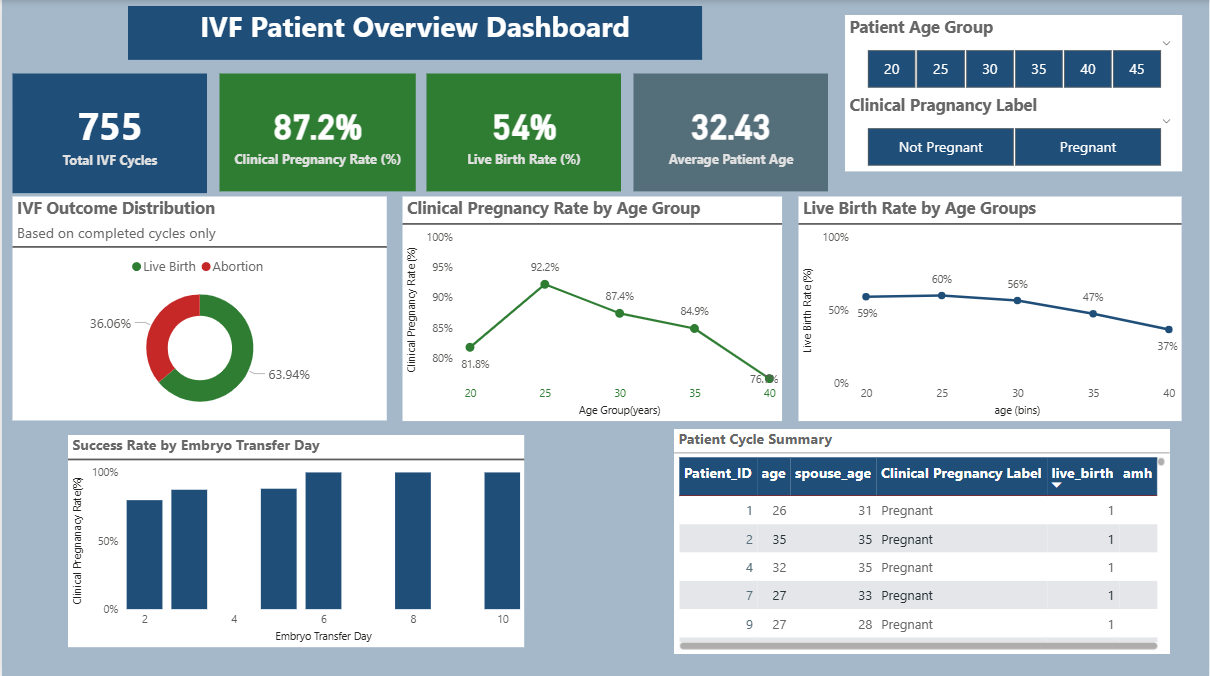

The dashboard page shown, as its layout file describes it:
{"tool":"powerbi","page":{"name":"Patient_Dashboard","canvas":[1366,768],"ordinal":1},"visuals":[{"type":"lineChart","title":"Clinical Pregnancy Rate by Age Group","fields":{"Category":["ivf_dataset.age (bins)"],"Y":["ivf_dataset.Clinical Pregnancy Rate (%)"]},"box":[453.8,221.8,429.6,254.1],"z":0},{"type":"donutChart","title":"IVF Outcome Distribution","fields":{"Category":["ivf_dataset.Outcome Type"],"Y":["CountNonNull(ivf_dataset.Patient_ID)"]},"box":[12.3,222.8,423.1,253.4],"z":1000},{"type":"lineChart","title":"Live Birth Rate by Age Groups","fields":{"Category":["ivf_dataset.age (bins)"],"Y":["ivf_dataset.Live Birth Rate (%)"]},"box":[901.5,221.8,433.6,254.1],"z":2000},{"type":"card","fields":{"Values":["ivf_dataset.Total Cycles"]},"box":[12.1,82.7,219.8,135.1],"z":3000},{"type":"card","fields":{"Values":["ivf_dataset.Clinical Pregnancy Rate (%)"]},"box":[246,82.7,221.8,133.1],"z":4000},{"type":"card","fields":{"Values":["ivf_dataset.Live Birth Rate (%)"]},"box":[480,82.7,219.8,133.1],"z":5000},{"type":"card","fields":{"Values":["ivf_dataset.Average Patient Age"]},"box":[713.9,82.7,219.8,133.1],"z":6000},{"type":"tableEx","title":"Patient Cycle Summary","fields":{"Values":["ivf_dataset.Patient_ID","ivf_dataset.age","ivf_dataset.spouse_age","ivf_dataset.Clinical Pregnancy Label","ivf_dataset.live_birth","ivf_dataset.amh"]},"box":[760.3,486,560.7,254.1],"z":7000},{"type":"clusteredColumnChart","title":"Success Rate by Embryo Transfer Day","fields":{"Y":["ivf_dataset.Pregnancy Success Rate %"],"Category":["ivf_dataset.embryo_transfer_day"]},"box":[74.6,492.1,516.3,240],"z":8000},{"type":"shape","title":"IVF Patient Overview Dashboard","box":[143.2,6.1,649.4,60.5],"z":9000},{"type":"slicer","title":"Patient Age Group","fields":{"Values":["ivf_dataset.age (bins)"]},"box":[953.9,16.1,381.2,88.7],"z":10000},{"type":"slicer","title":"Clinical Pragnancy Label","fields":{"Values":["ivf_dataset.Clinical Pregnancy Label"]},"box":[953.9,104.9,381.2,88.7],"z":11000}]}

Visuals, with their boxes in screenshot pixels (x1, y1, x2, y2), scaled from the page's 1366x768 canvas onto the 1210x676 screenshot:
"Clinical Pregnancy Rate by Age Group" lineChart: crop(402, 195, 783, 419)
"IVF Outcome Distribution" donutChart: crop(11, 196, 386, 419)
"Live Birth Rate by Age Groups" lineChart: crop(799, 195, 1183, 419)
card - ivf_dataset.Total Cycles: crop(11, 73, 205, 192)
card - ivf_dataset.Clinical Pregnancy Rate (%): crop(218, 73, 414, 190)
card - ivf_dataset.Live Birth Rate (%): crop(425, 73, 620, 190)
card - ivf_dataset.Average Patient Age: crop(632, 73, 827, 190)
"Patient Cycle Summary" tableEx: crop(673, 428, 1170, 651)
"Success Rate by Embryo Transfer Day" clusteredColumnChart: crop(66, 433, 523, 644)
"IVF Patient Overview Dashboard" shape: crop(127, 5, 702, 59)
"Patient Age Group" slicer: crop(845, 14, 1183, 92)
"Clinical Pragnancy Label" slicer: crop(845, 92, 1183, 170)
